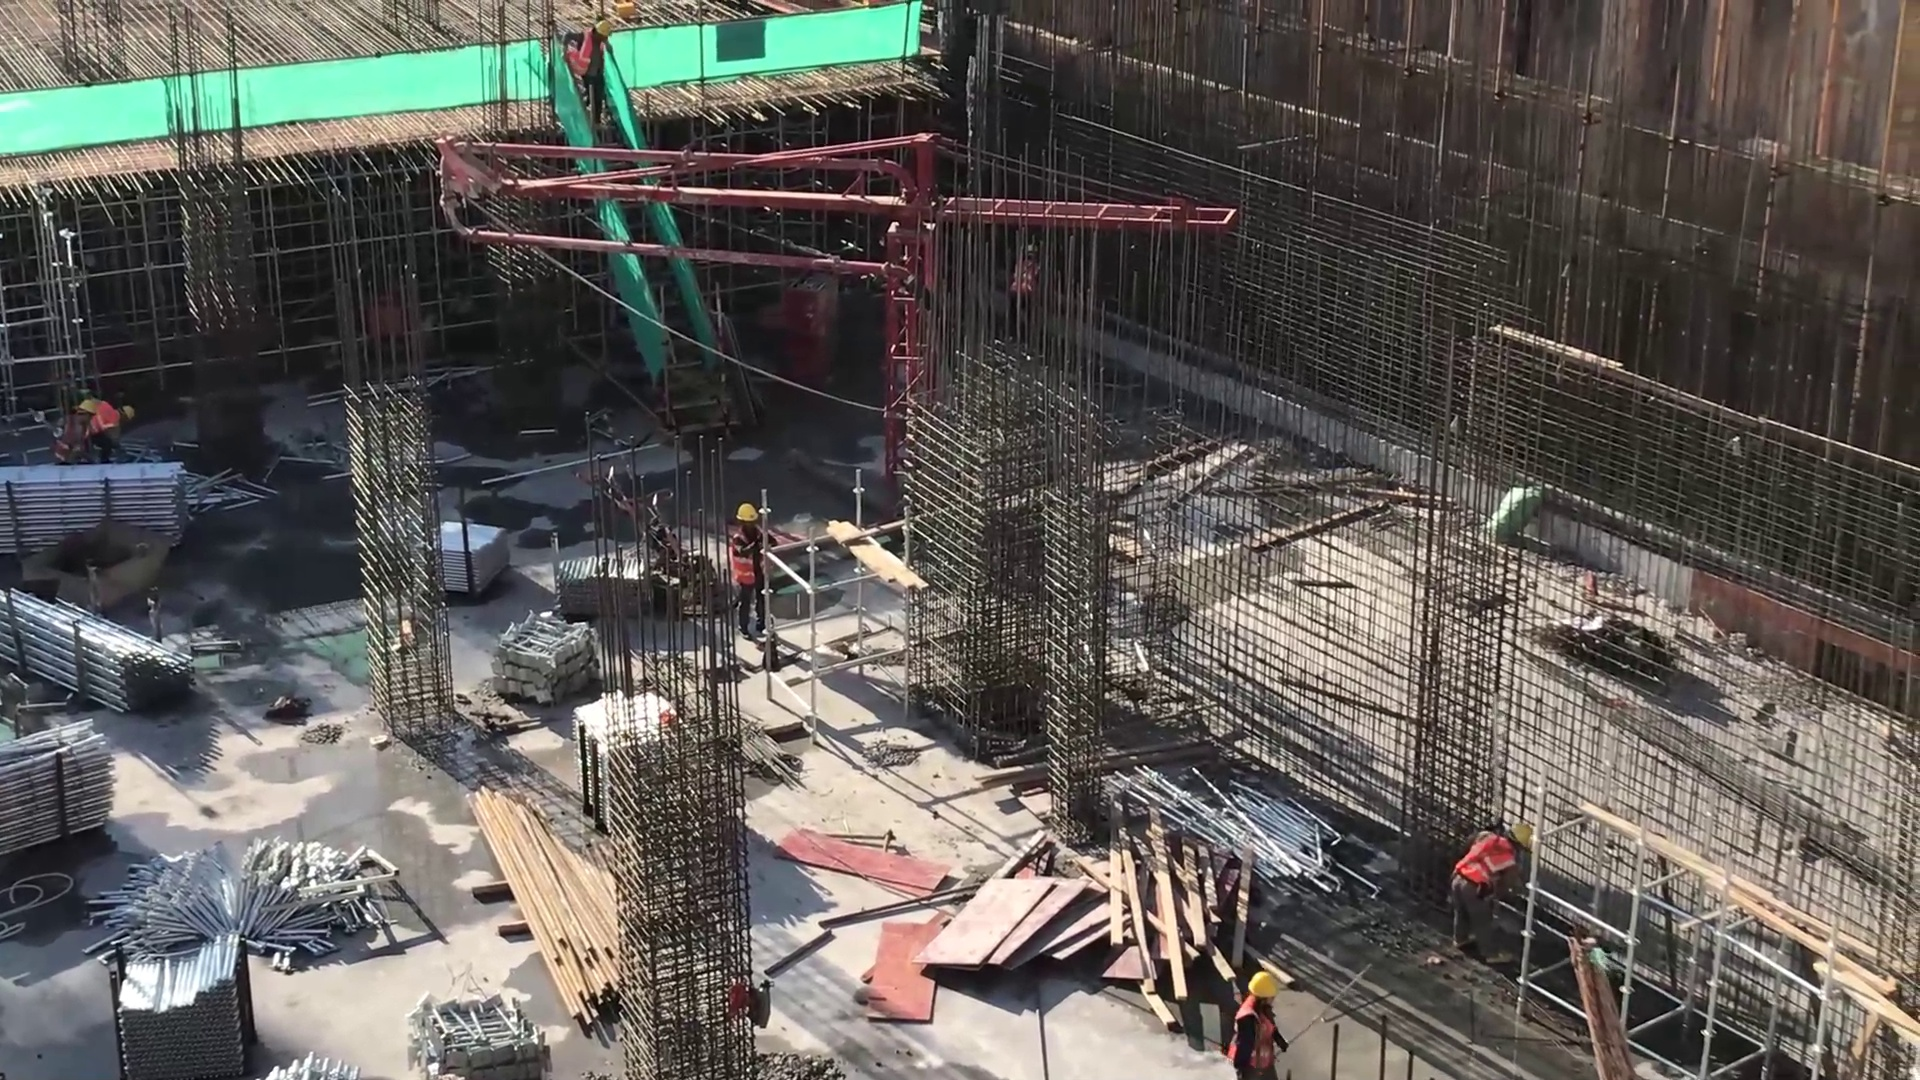board: (924, 876, 1102, 969)
helmet: (1243, 971, 1284, 996), (1508, 820, 1535, 847), (78, 396, 98, 415), (736, 502, 757, 521), (593, 20, 612, 37), (119, 404, 135, 419)
person: (1450, 811, 1536, 946), (1223, 965, 1288, 1080), (562, 16, 616, 127), (732, 499, 770, 637), (55, 392, 92, 469), (98, 399, 133, 460)
scaffold: (6, 587, 196, 710), (1161, 766, 1342, 885), (120, 915, 248, 1080), (9, 461, 200, 569), (1, 716, 113, 864), (442, 516, 509, 603), (262, 1051, 363, 1080), (559, 549, 593, 611)
vest: (1227, 1001, 1283, 1066), (1459, 831, 1517, 886), (571, 28, 607, 83), (732, 528, 765, 584)
wood: (470, 783, 639, 1014), (1116, 811, 1269, 999)
